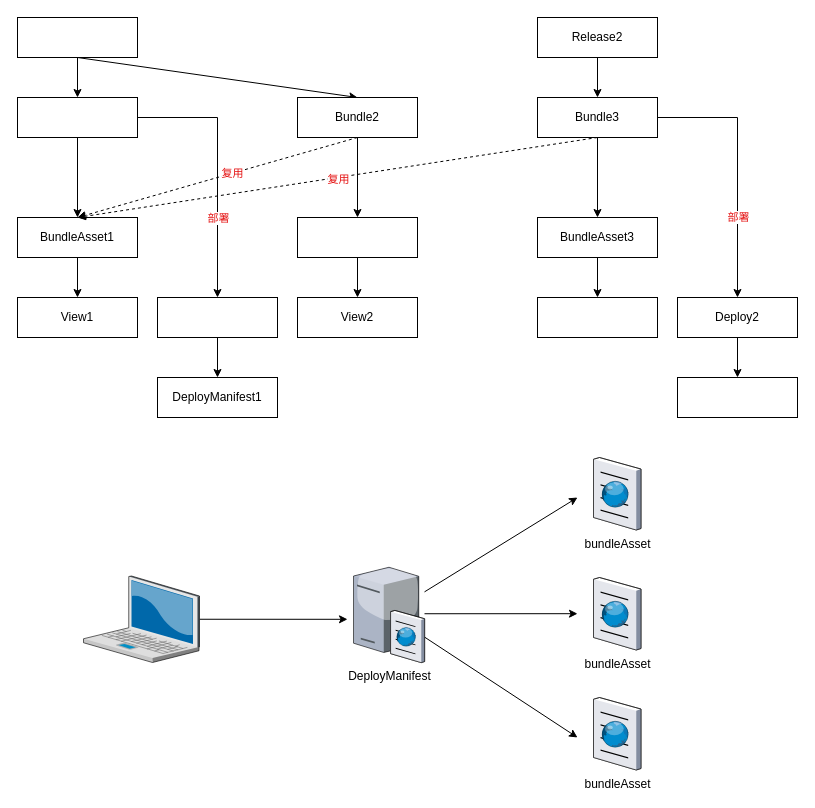
The diagram is 815 pixels wide and 808 high, and some of its shapes have lost their labels. The centre of each missing label's shape, as x and y in pixels:
browser: the point at 141,619
Bundle1: the point at 77,117
BundleAsset2: the point at 357,237
Deploy1: the point at 217,317
DeployManifest2: the point at 737,397
Entry3: the point at 597,317
Release1: the point at 77,37
